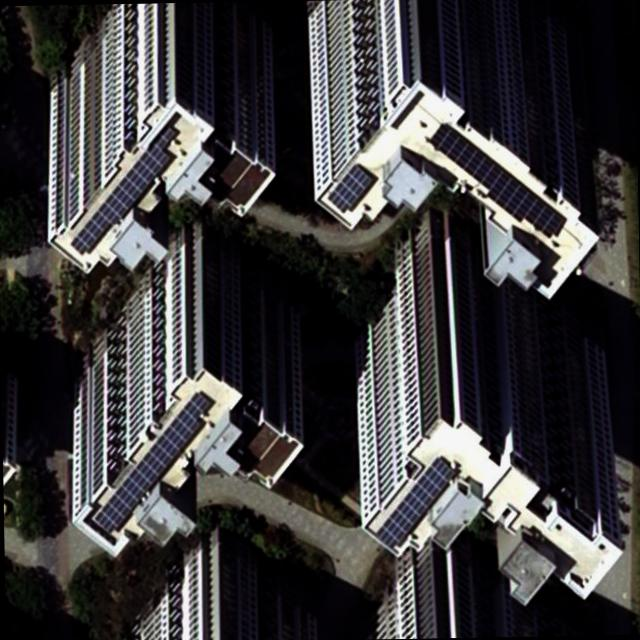solar: (86, 390, 216, 535), (428, 118, 566, 240), (68, 125, 182, 256), (370, 454, 458, 549), (327, 163, 379, 213)
